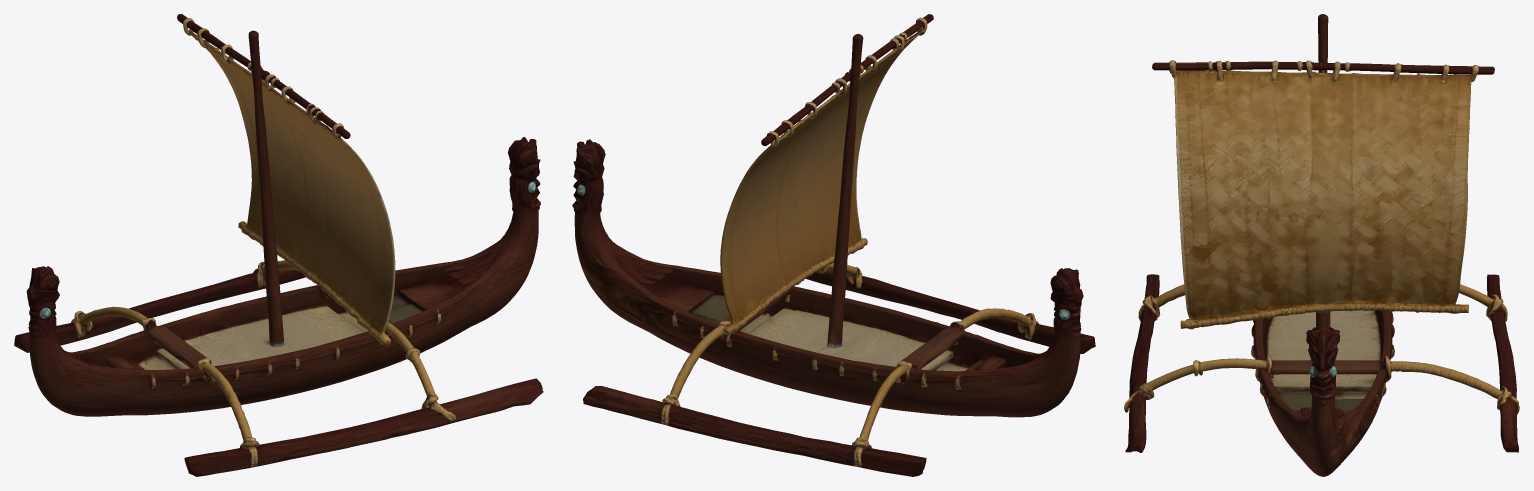
The model's file is canoe.glb.
The picture shows the model from 3 angles, left to right: view 1: azimuth 30°, elevation 25°; view 2: azimuth 150°, elevation 25°; view 3: azimuth 270°, elevation 25°; orthographic projection.
Parts seen in each view (by area): view 1: Object_2; view 2: Object_2; view 3: Object_2.
Part boxes in pixels (x1,y1,x2,y2): Object_2: (14,14,543,476); Object_2: (572,14,1095,476); Object_2: (1124,14,1519,476).
Bounding box in the file's own units: 1 × 0.6755 × 0.663.
1 material, 1 textured.
